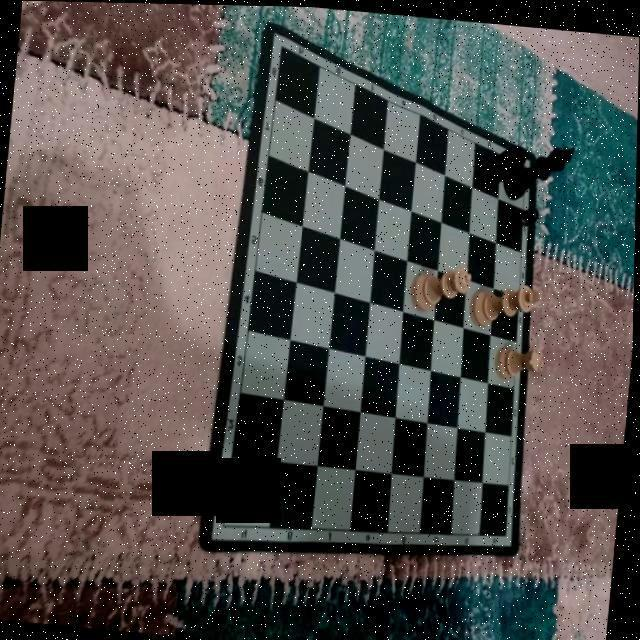chess-table-corners: (264, 24, 298, 72), (210, 498, 243, 544), (512, 143, 540, 194), (494, 510, 521, 554)
